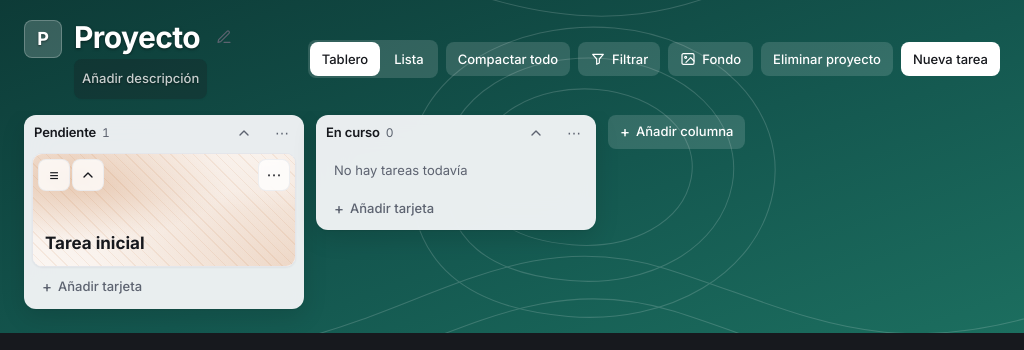
it: ProyectoDetalle › compacta y expande todas las columnas con el botón global
Click the button "Compactar todo".
click(508, 59)  # box [446,42,570,76]
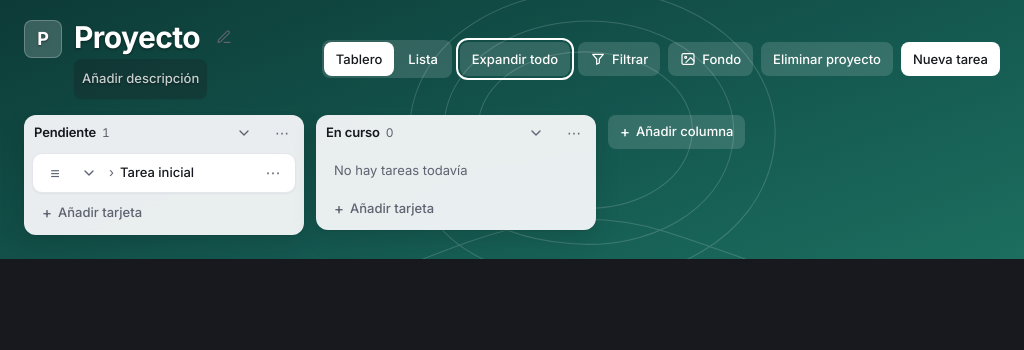
Expected: the list item "Tarea inicial" has class "tarjeta-kanban--compacta", [32,152,296,192]
Click the button "Expandir todo".
click(515, 59)  # box [460,42,570,76]
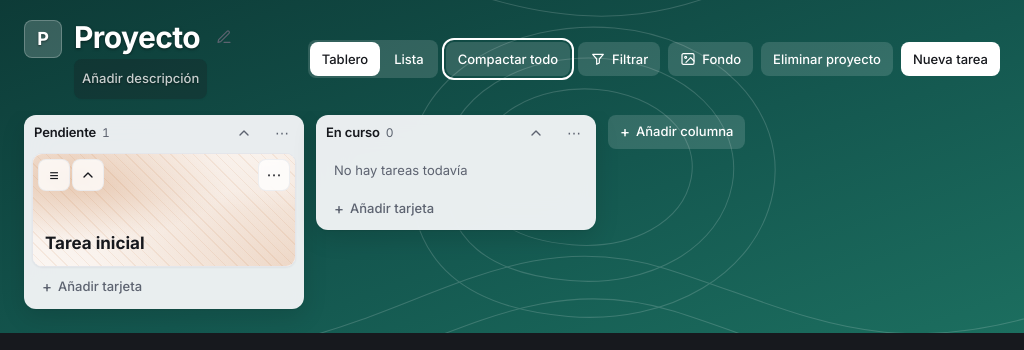
Expected: the button "Compactar todo" is shown, [446,42,570,76]
